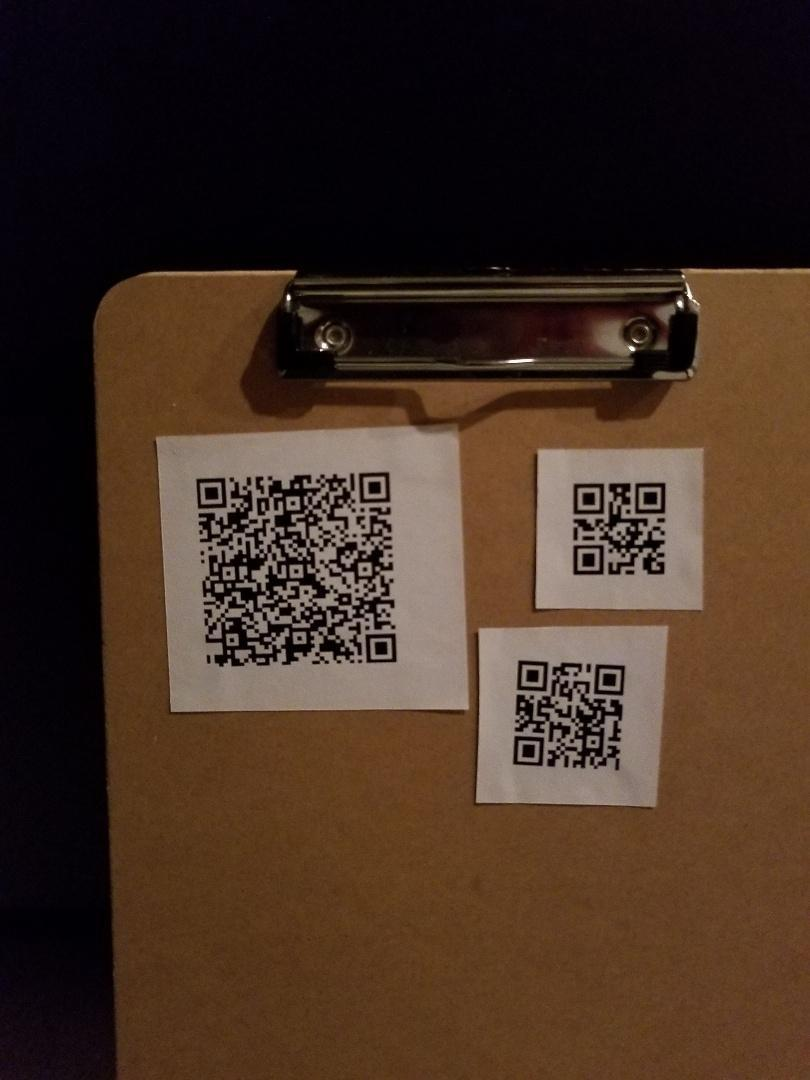Finder pattern: (566, 540, 609, 580), (630, 477, 670, 517), (512, 654, 552, 694), (354, 468, 396, 506), (190, 474, 232, 511), (361, 630, 404, 666), (568, 478, 607, 517), (509, 730, 546, 769), (592, 659, 628, 699)
